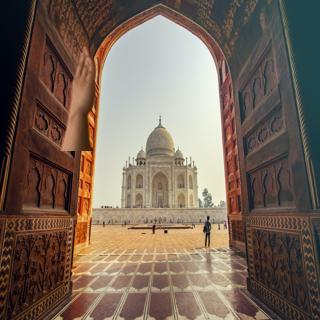RIGHT: (64, 43, 102, 121)
